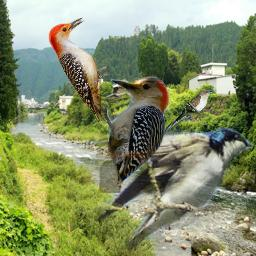Cuckoo: (158, 89, 215, 138)
Swallow: (85, 126, 253, 255)
Woodpecker: (95, 71, 184, 193), (48, 17, 120, 137)
